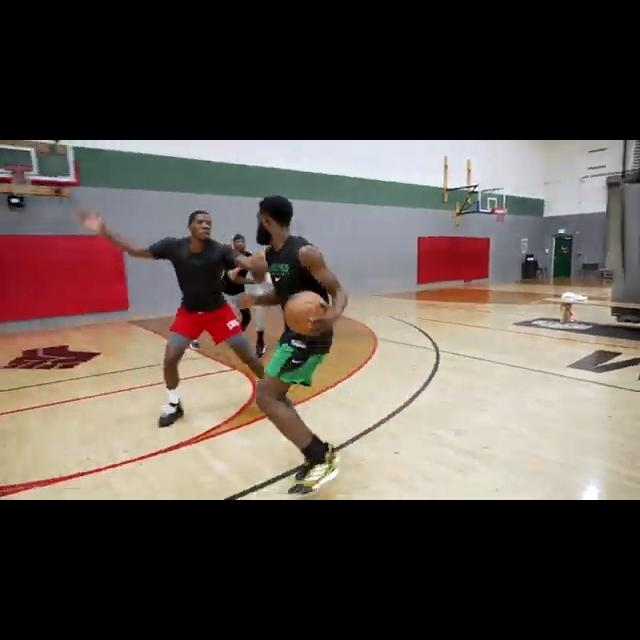basketball: (284, 291, 326, 334)
hoop: (7, 165, 34, 198), (494, 207, 506, 225)
person: (79, 209, 299, 429), (253, 193, 348, 497), (192, 229, 265, 357)
